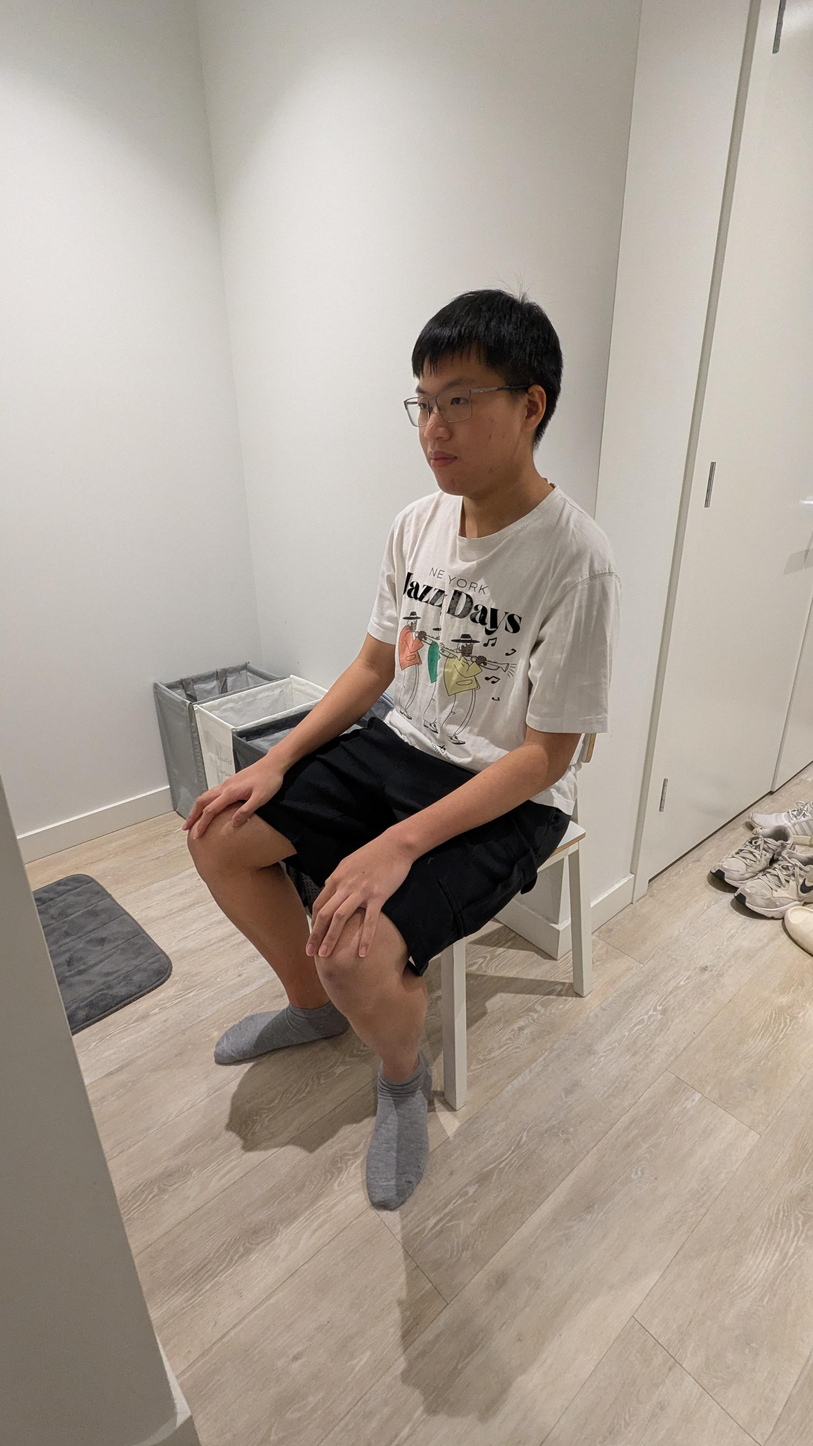GoodPosture: (181, 289, 624, 1211)
